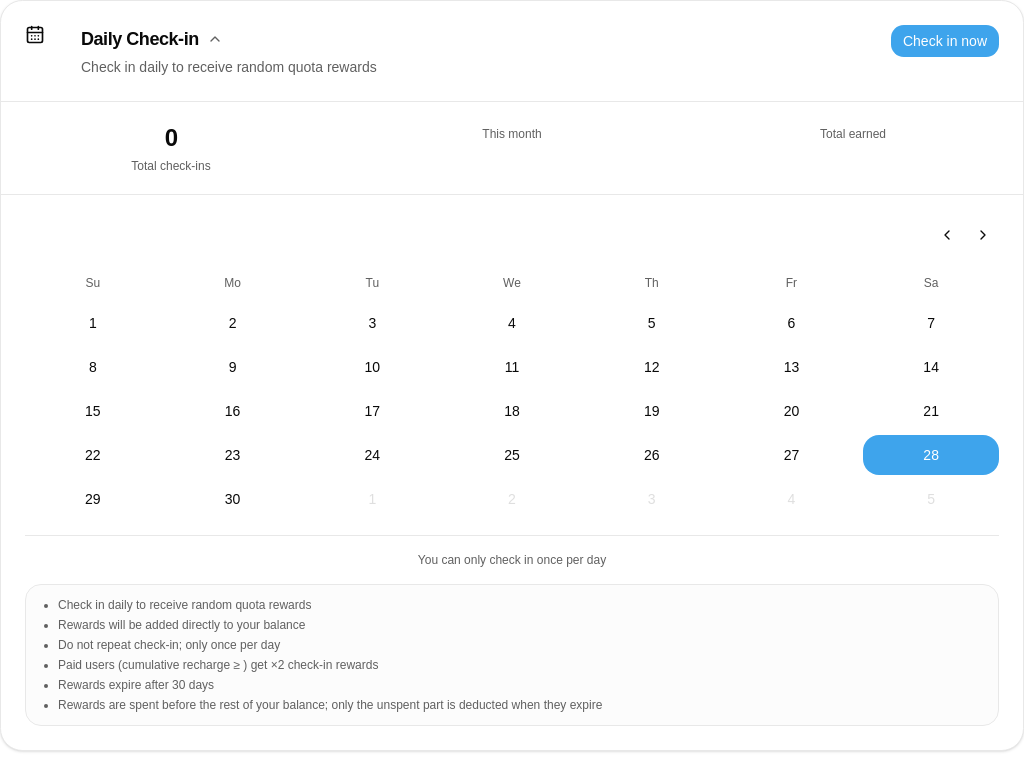
Test: check-in reward result › a check-in with the paid multiplier applied shows the multiplier badge
Click the button "Check in now".
click(945, 41)  # box [891, 25, 999, 57]
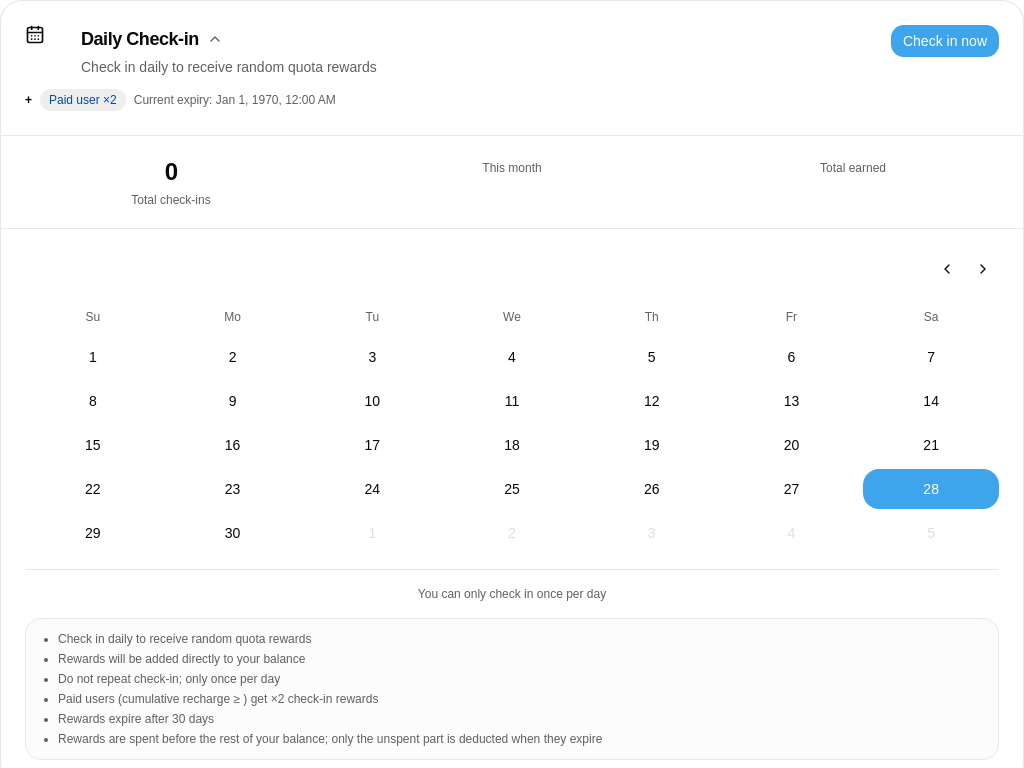
Now the text "Paid user ×2" is shown, box [40, 89, 126, 111]
